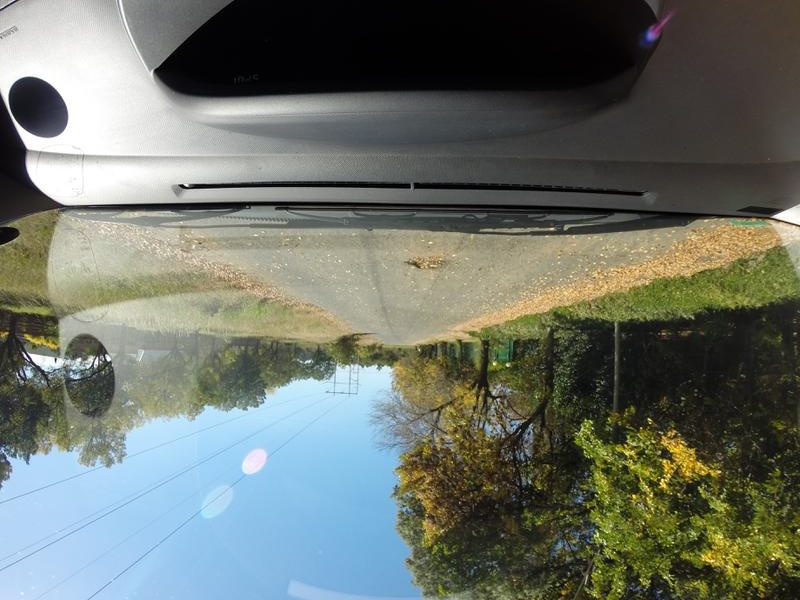pothole: (400, 247, 451, 278)
